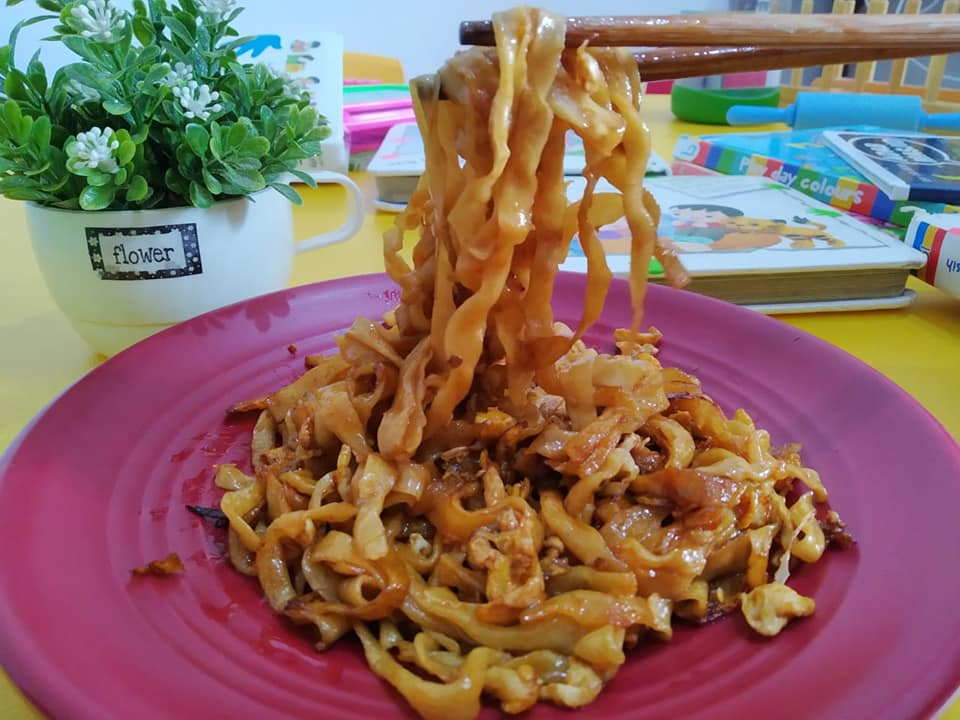Mie: (213, 36, 778, 709)
